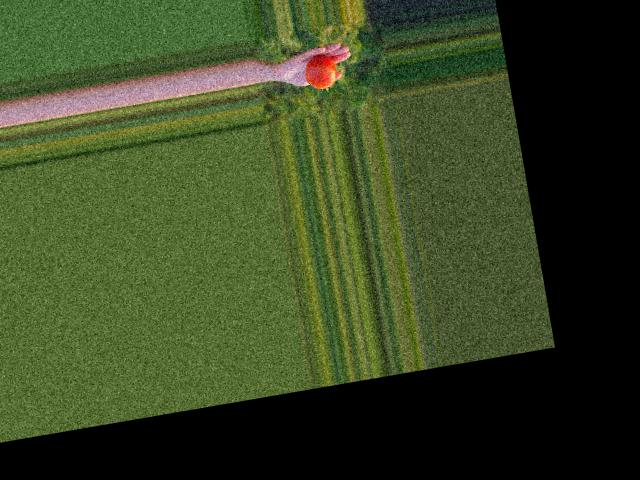tomato: (303, 51, 338, 90)
